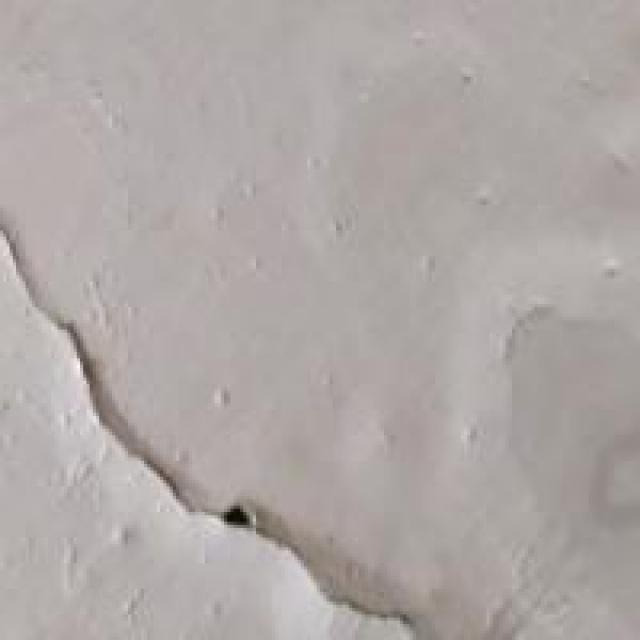Crack: (4, 189, 519, 637)
